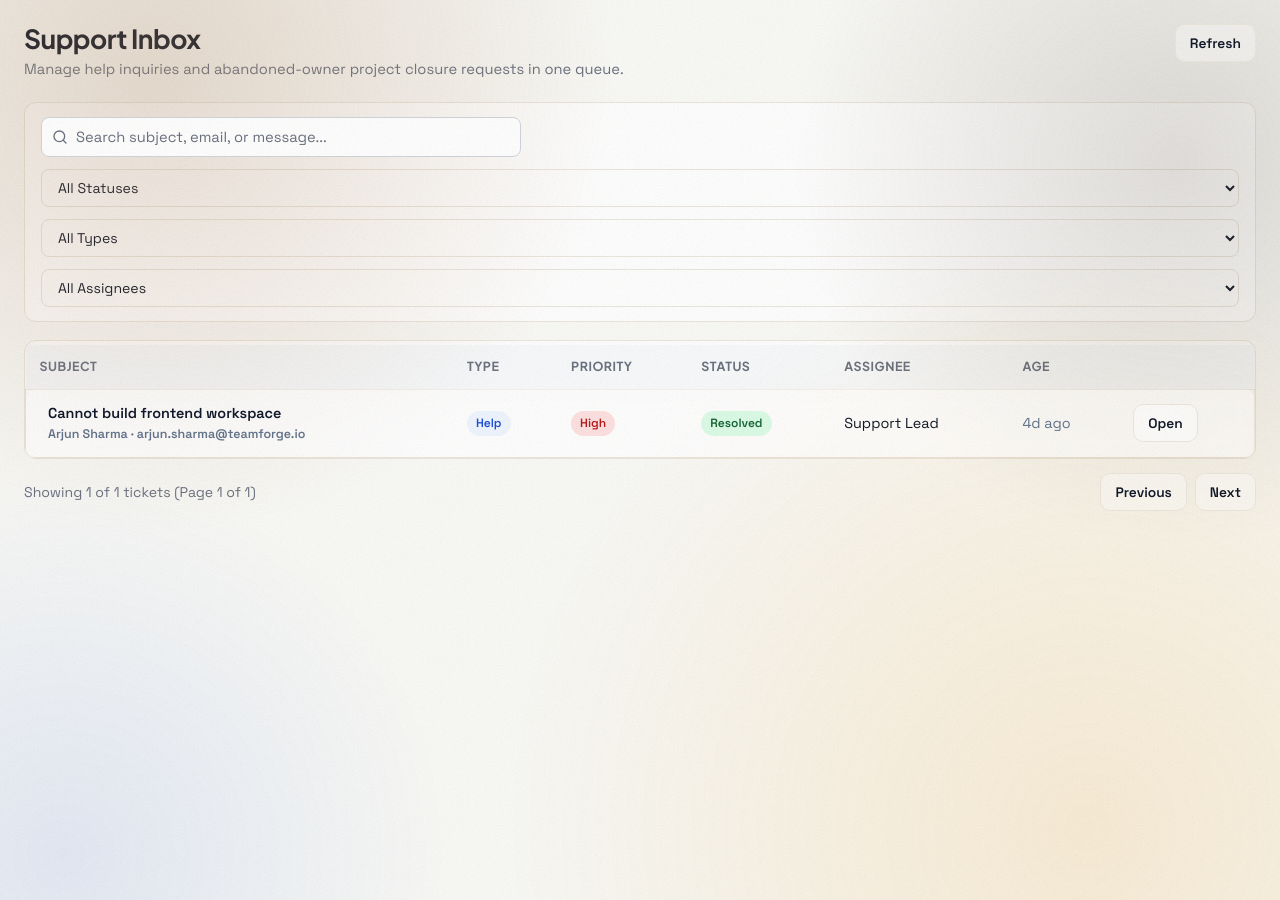
Step 4 Frontend Tests: Resolved or Rejected Support Tickets Must Be Read-Only › 1. Drawer renders read-only banner, resolution note, and closed date for resolved ticket
The width and height of the screenshot is (1280, 900).
Check: the row with test id "ticket-row-ticket-resolved-1" is shown, box [26,389,1254,457]
# Open ticket drawer
Click the button with test id "open-ticket-ticket-resolved-1" at (1165, 423), box [1133,404,1198,442]
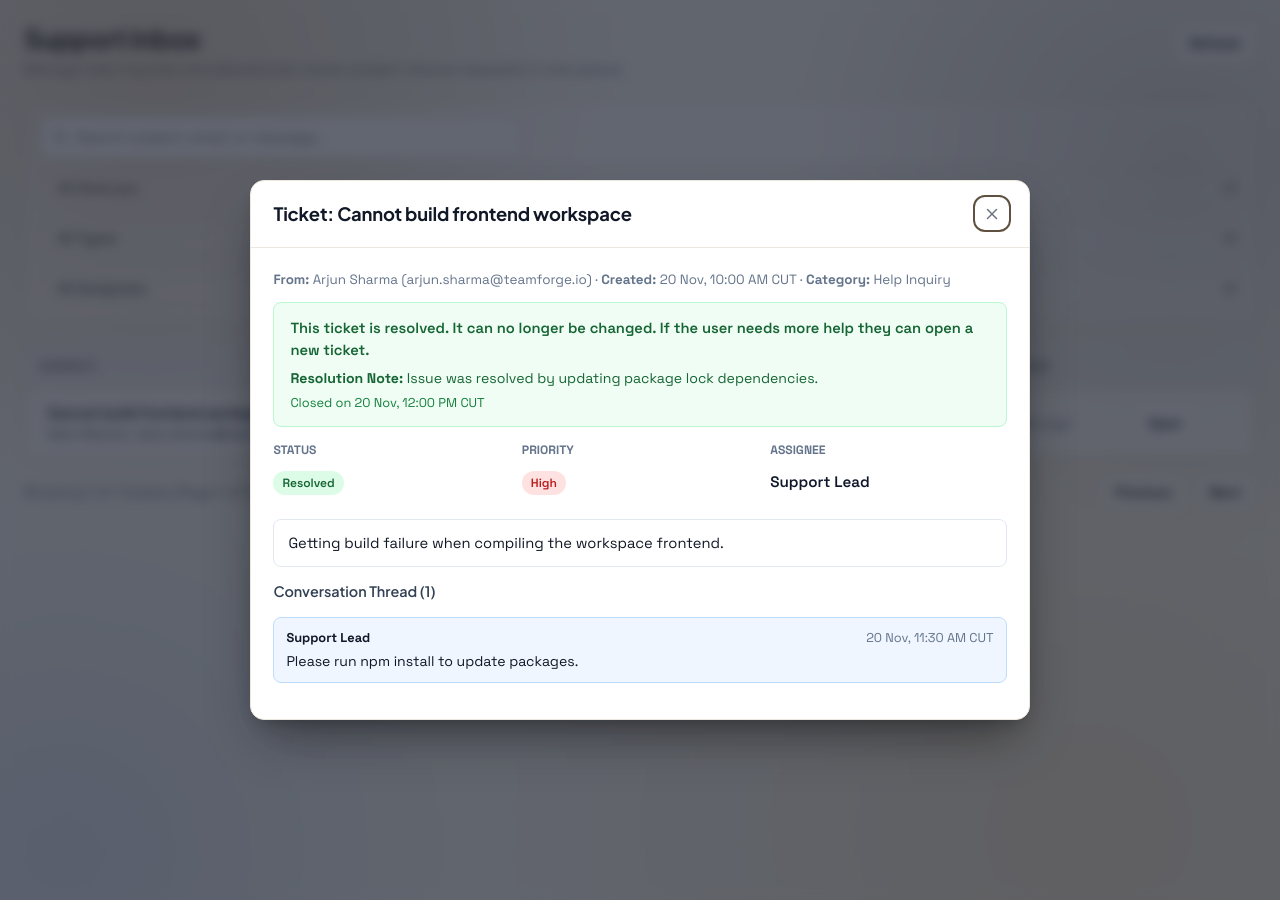
Check: the element with test id "ticket-readonly-banner" shows "This ticket is resolved. It can no longer be changed. If the user needs more help they can open a new ticket.", box [273,302,1007,427]
Check: the element with test id "ticket-readonly-banner" shows "Issue was resolved by updating package lock dependencies.", box [407,368,818,386]
Check: the text "Closed on 20 Nov, 12:00 PM CUT" is shown, box [290,394,485,411]
